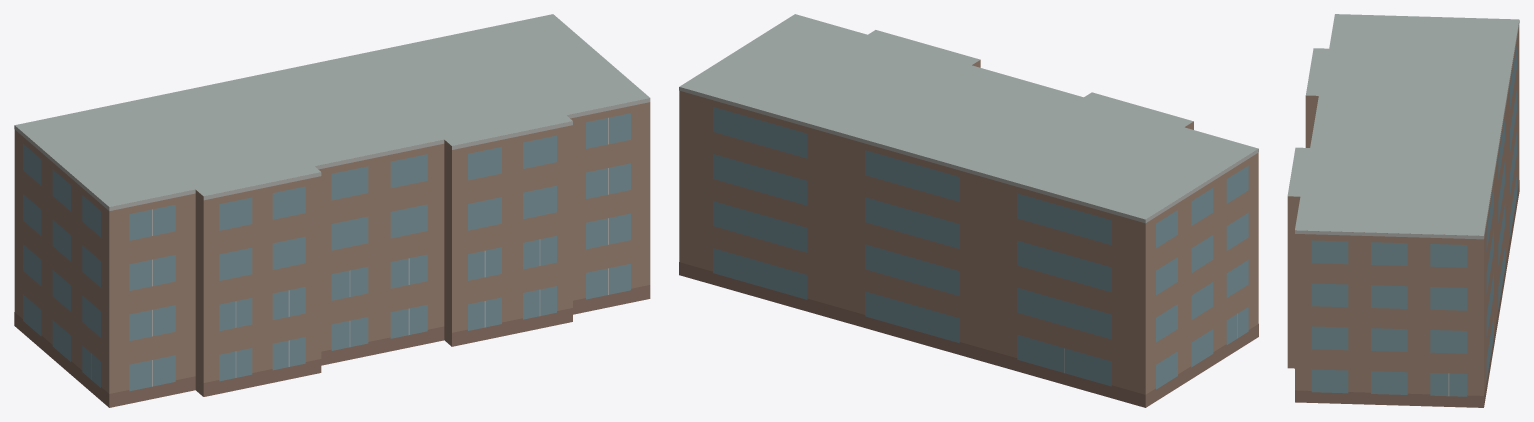
The model's file is survey-upis-32829750.glb.
3 renders of one model, left to right at view 1: azimuth 30°, elevation 25°; view 2: azimuth 150°, elevation 25°; view 3: azimuth 270°, elevation 25°, orthographic. The views are drawn at different scales.
Visible parts, largest first — view 1: survey-upis-32829750.tmp; view 2: survey-upis-32829750.tmp; view 3: survey-upis-32829750.tmp.
Part boxes in pixels (<box>): survey-upis-32829750.tmp: <box>14,14,650,407</box>; survey-upis-32829750.tmp: <box>679,14,1258,407</box>; survey-upis-32829750.tmp: <box>1287,14,1519,407</box>.
Size of the model in its own units: 33.77 by 12.2 by 14.93.
